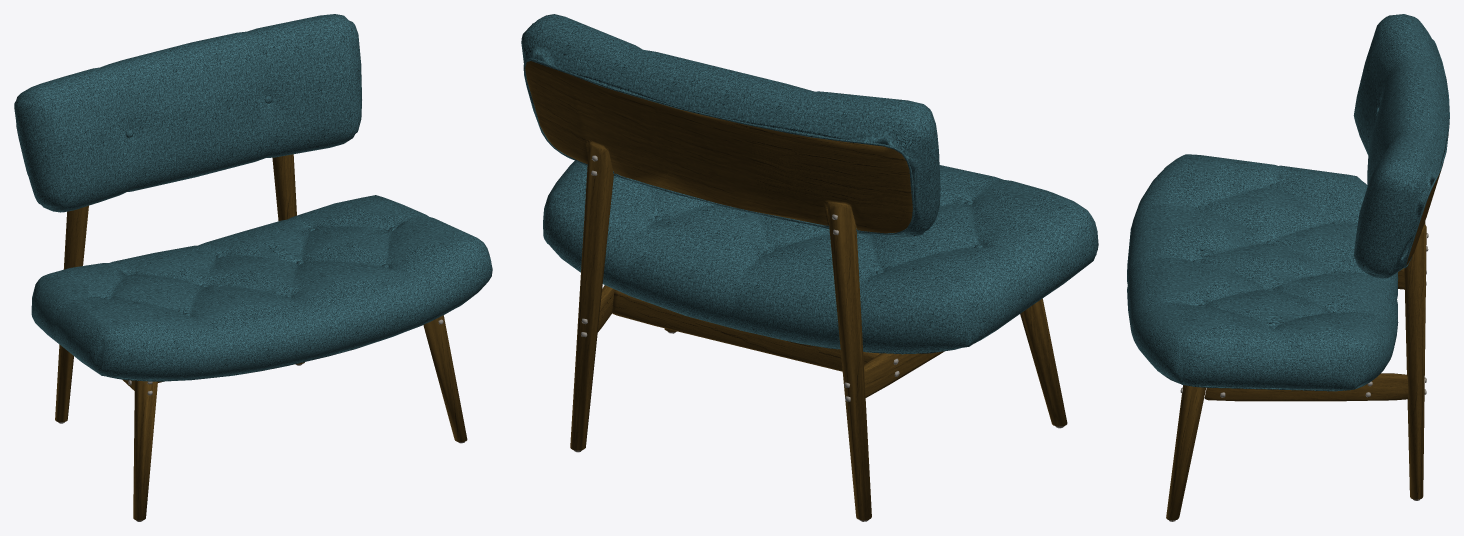
The model's file is armchair.glb.
The picture shows the model from 3 angles, left to right: view 1: azimuth 30°, elevation 25°; view 2: azimuth 150°, elevation 25°; view 3: azimuth 270°, elevation 25°; orthographic projection. The views are drawn at different scales.
Visible parts, largest first — view 1: SheenChair_fabric, SheenChair_wood; view 2: SheenChair_fabric, SheenChair_wood; view 3: SheenChair_fabric, SheenChair_wood.
Boxes of the visible parts, x1,y1,x2,y2 form: SheenChair_fabric: (14, 14, 492, 381); SheenChair_wood: (55, 154, 467, 520); SheenChair_fabric: (521, 14, 1098, 354); SheenChair_wood: (525, 61, 1067, 520); SheenChair_fabric: (1127, 14, 1449, 391); SheenChair_wood: (1166, 135, 1448, 520).
Size of the model in its own units: 0.8262 by 0.6861 by 0.57.
Materials: 4 (3 with a texture image).
